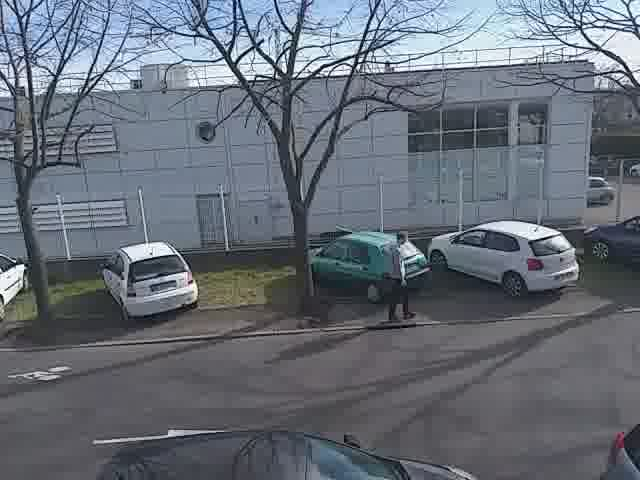persona: (379, 229, 420, 322)
